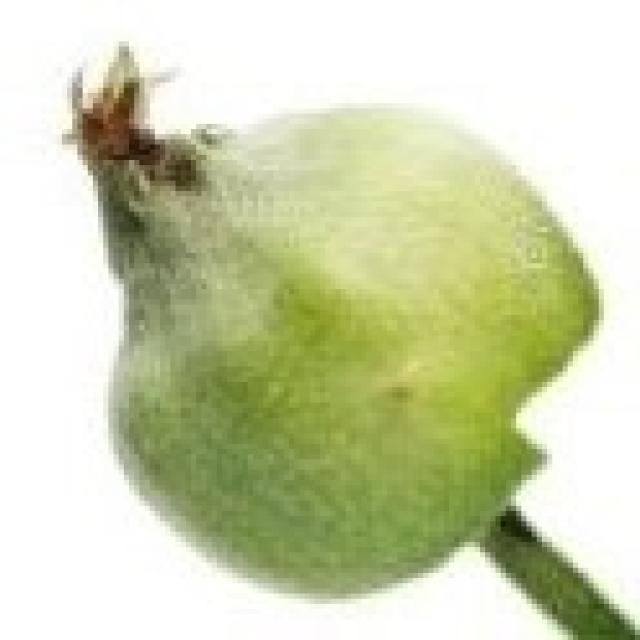20-_ripeness: (56, 61, 611, 601)
